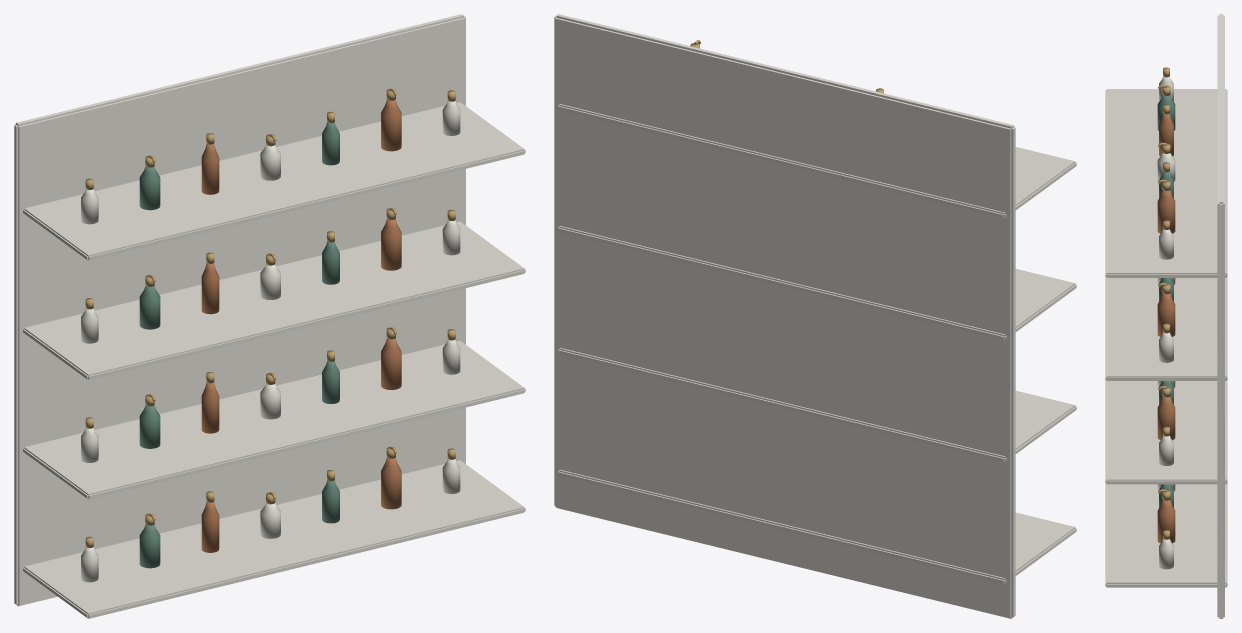
Rendered from cosmetic_bay.glb.
3 views of the same model, side by side, from view 1: azimuth 30°, elevation 25°; view 2: azimuth 150°, elevation 25°; view 3: azimuth 270°, elevation 25° (orthographic). The views are drawn at different scales.
Parts seen in each view (by area): view 1: cosmetic_bay_Warm_white_coating, cosmetic_bay_Honed_solid_surface, cosmetic_bay_Glazed_ceramic_0, cosmetic_bay_Glazed_ceramic_2, cosmetic_bay_Glazed_ceramic_1, cosmetic_bay_Satin_champagne; view 2: cosmetic_bay_Warm_white_coating, cosmetic_bay_Honed_solid_surface; view 3: cosmetic_bay_Honed_solid_surface, cosmetic_bay_Warm_white_coating, cosmetic_bay_Glazed_ceramic_2, cosmetic_bay_Glazed_ceramic_0, cosmetic_bay_Satin_champagne, cosmetic_bay_Glazed_ceramic_1.
Part boxes in pixels (box(x1,y1,x2,y2)): cosmetic_bay_Warm_white_coating: box(14, 14, 465, 606); cosmetic_bay_Honed_solid_surface: box(23, 102, 525, 618); cosmetic_bay_Glazed_ceramic_0: box(81, 101, 460, 582); cosmetic_bay_Glazed_ceramic_2: box(201, 100, 401, 552); cosmetic_bay_Glazed_ceramic_1: box(139, 122, 339, 568); cosmetic_bay_Satin_champagne: box(85, 88, 455, 547); cosmetic_bay_Warm_white_coating: box(554, 14, 1015, 618); cosmetic_bay_Honed_solid_surface: box(558, 104, 1076, 584); cosmetic_bay_Honed_solid_surface: box(1105, 89, 1227, 587); cosmetic_bay_Warm_white_coating: box(1217, 14, 1224, 618); cosmetic_bay_Glazed_ceramic_2: box(1157, 113, 1175, 543); cosmetic_bay_Glazed_ceramic_0: box(1157, 76, 1175, 569); cosmetic_bay_Satin_champagne: box(1158, 67, 1170, 539); cosmetic_bay_Glazed_ceramic_1: box(1157, 95, 1175, 507).
Bounding box in the file's own units: 2.05 × 2.1 × 0.56.
